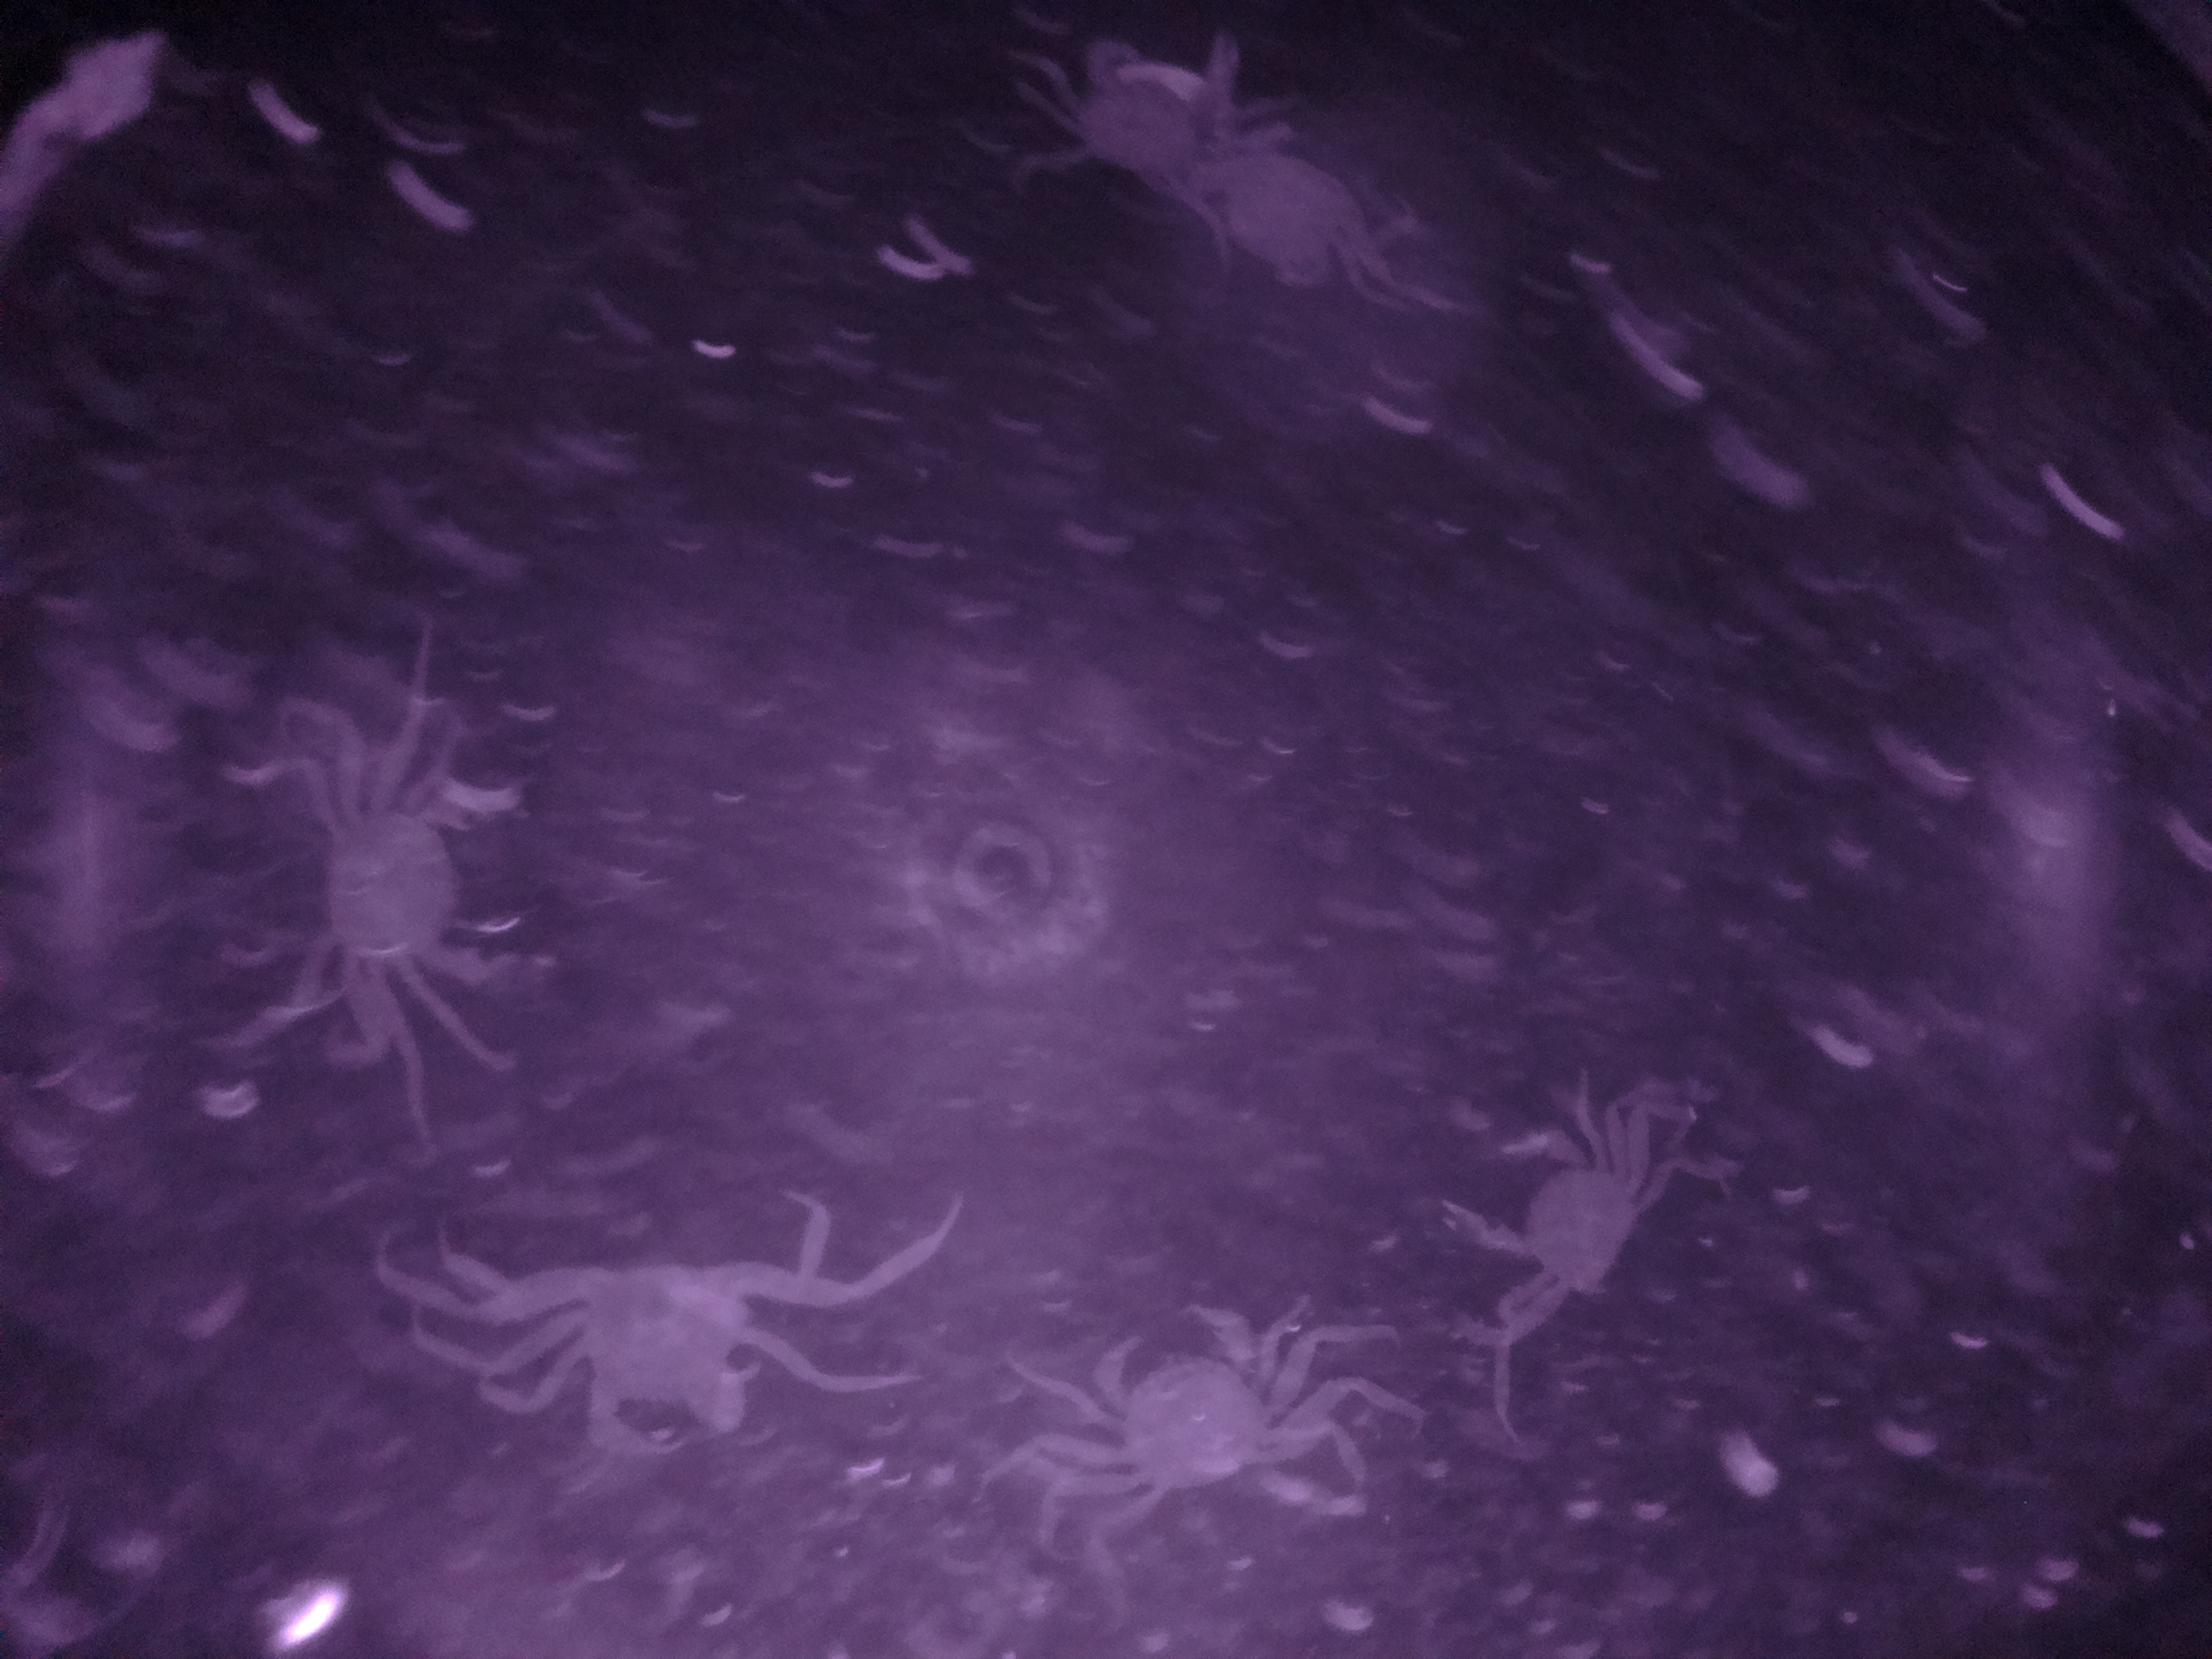Crab: (256, 735, 557, 1026), (498, 1223, 792, 1483), (1029, 1277, 1318, 1530), (1426, 1121, 1670, 1328)
